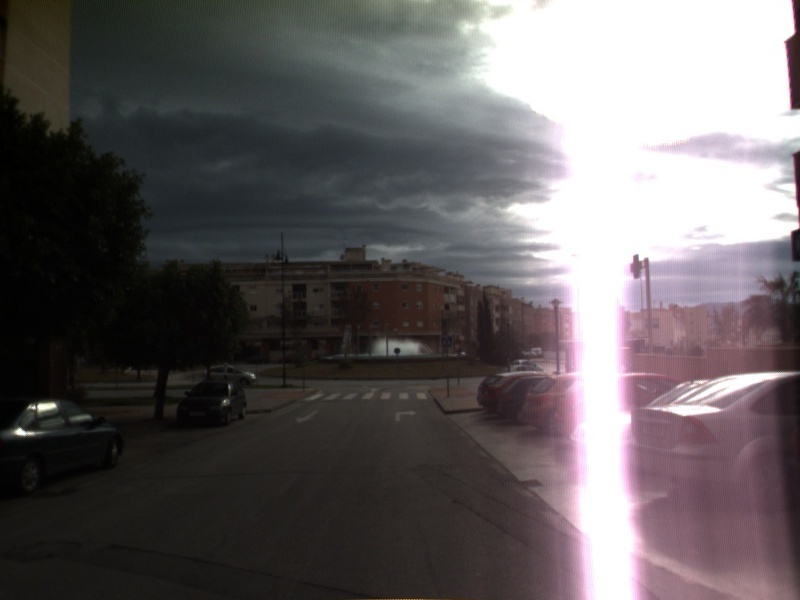RIGHT: (393, 408, 419, 423)
